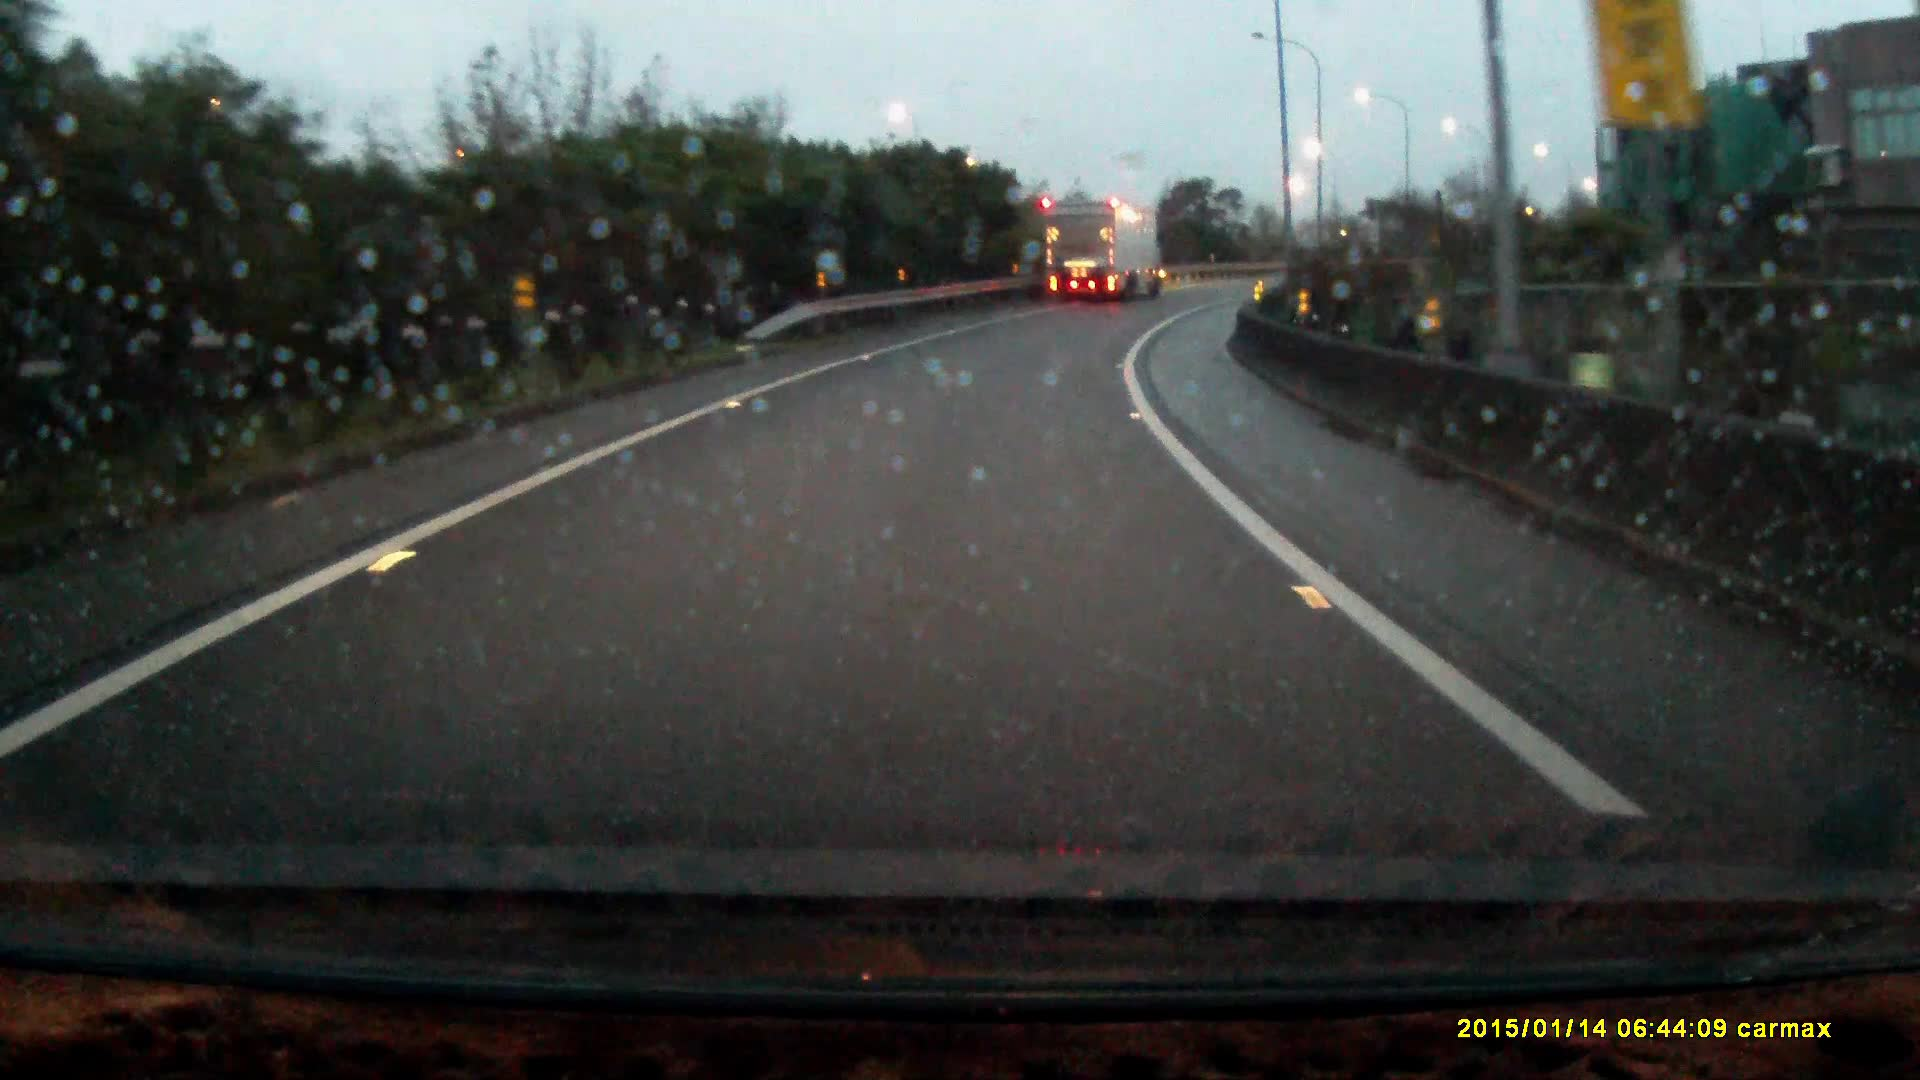vehicle: (1047, 195, 1174, 301)
